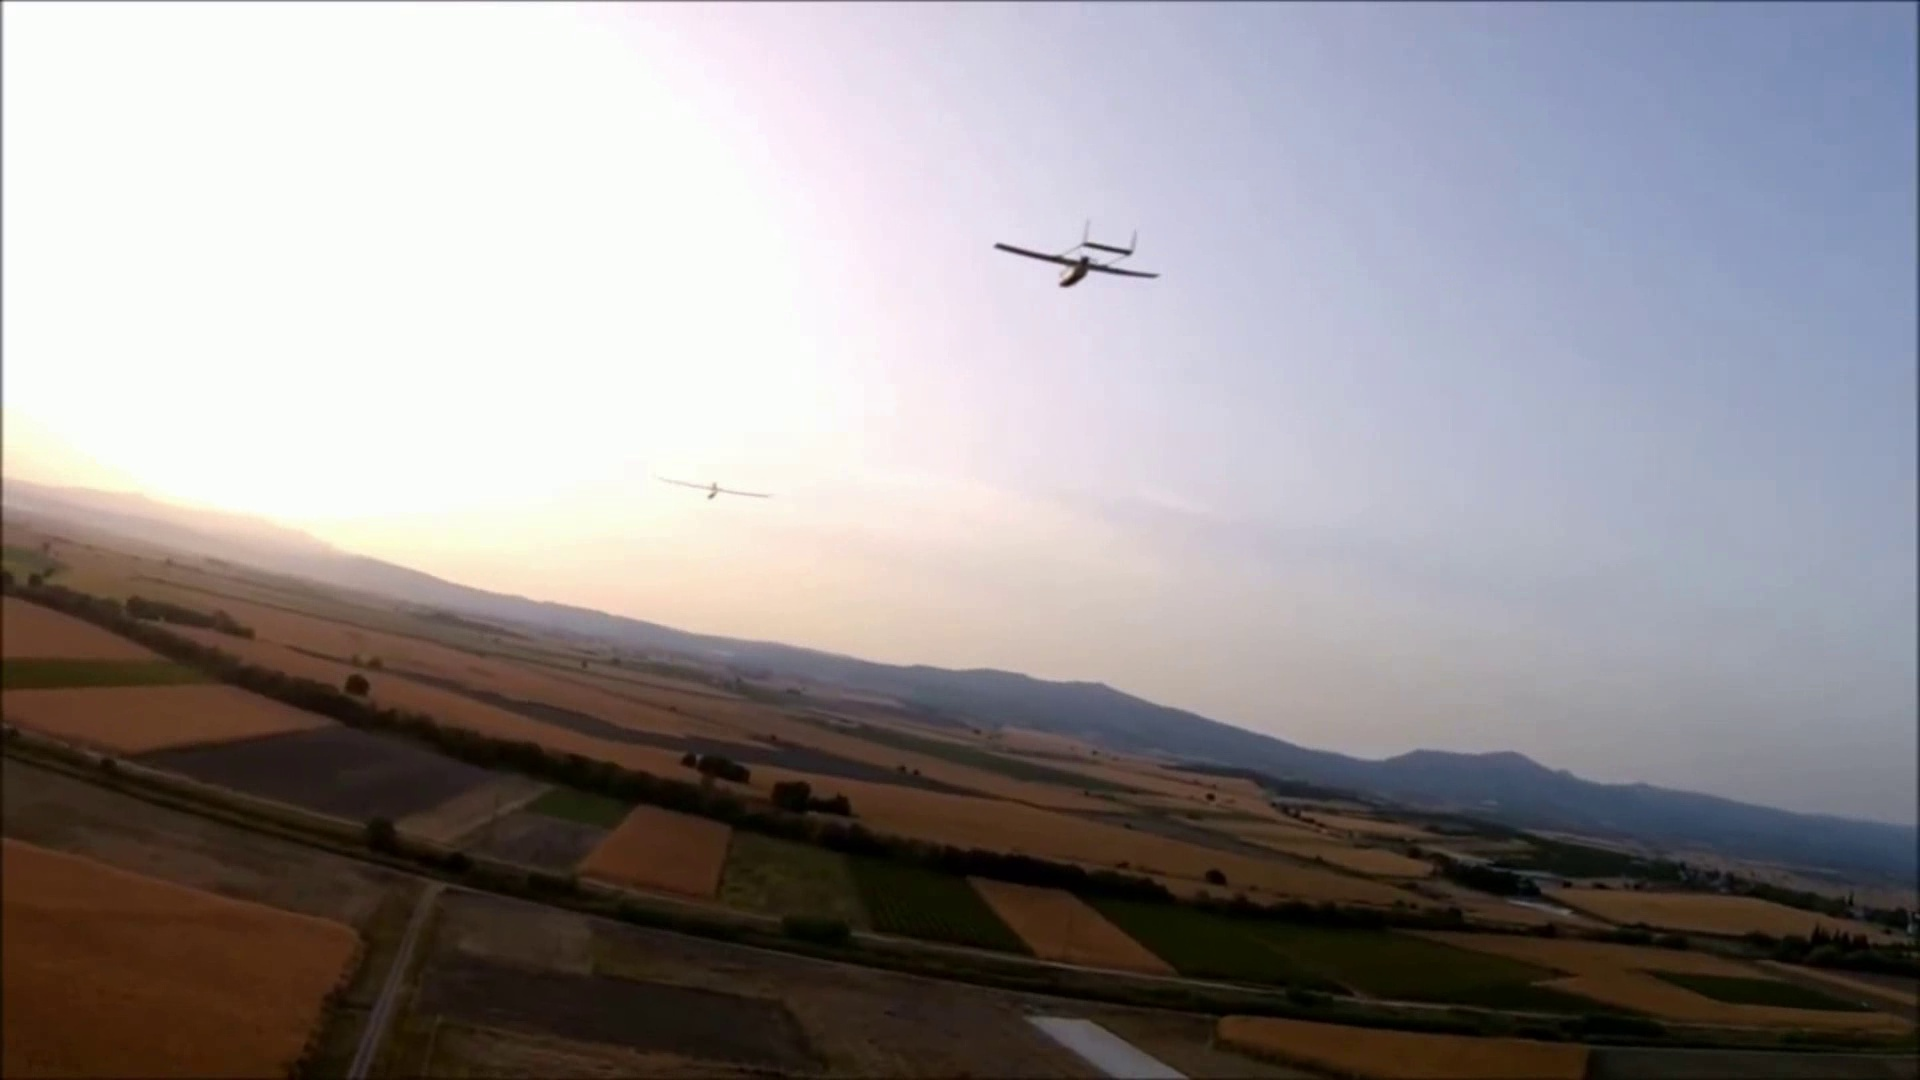airplane: (993, 218, 1160, 287), (651, 472, 775, 500)
